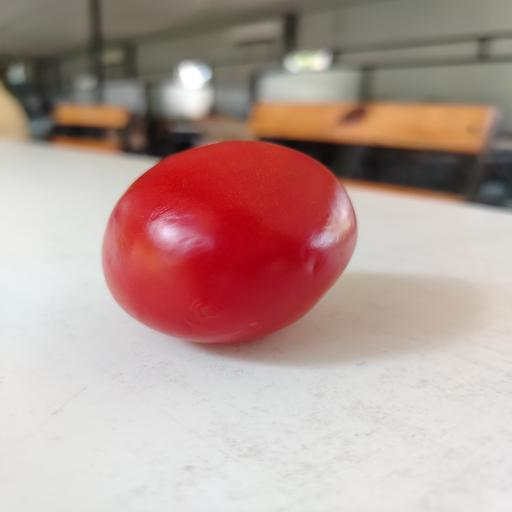ripe: (103, 141, 357, 343)
